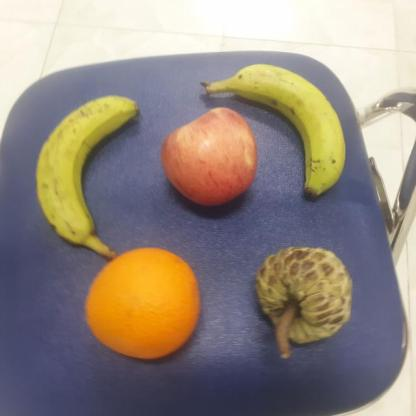annona: (254, 238, 358, 358)
apple: (160, 104, 259, 212)
banana: (30, 93, 145, 264)
orange: (80, 242, 202, 364)
